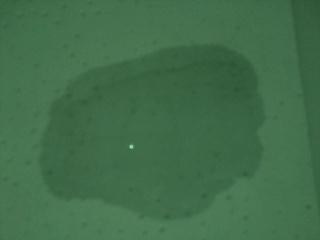Water_detected: (67, 72, 222, 191)
